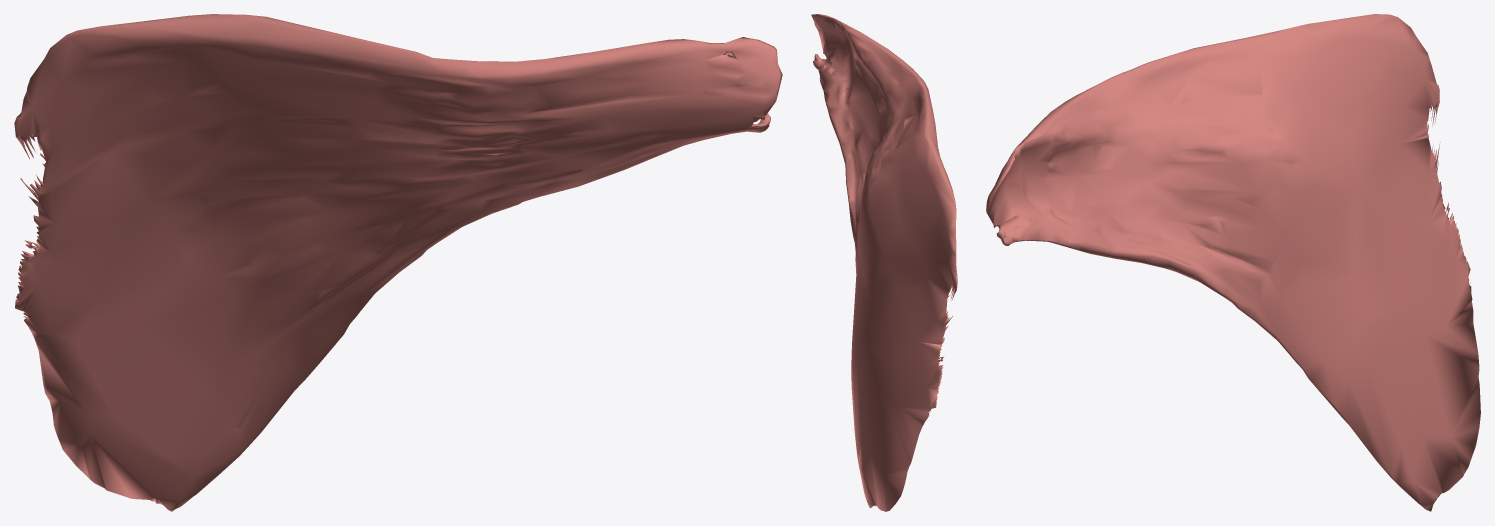
The picture shows the model from 3 angles, left to right: view 1: azimuth 30°, elevation 25°; view 2: azimuth 150°, elevation 25°; view 3: azimuth 270°, elevation 25°; orthographic projection. The views are drawn at different scales.
Parts seen in each view (by area): view 1: ZA_84c7d3654da90988; view 2: ZA_84c7d3654da90988; view 3: ZA_84c7d3654da90988.
Part boxes in pixels (bbox=[...]): ZA_84c7d3654da90988: bbox=[14, 14, 782, 511]; ZA_84c7d3654da90988: bbox=[811, 14, 957, 511]; ZA_84c7d3654da90988: bbox=[986, 14, 1480, 511].
Size of the model in its own units: 0.105 by 0.1146 by 0.105.
